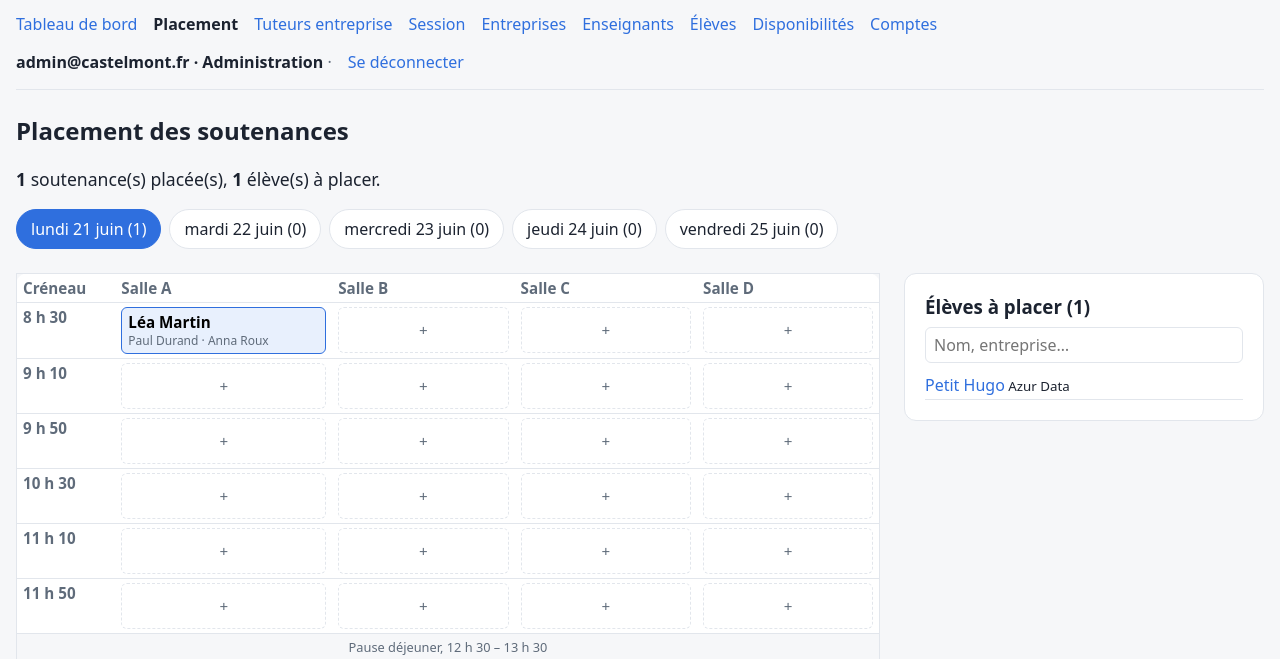
Test: PlacementPage, placing › shows the violations of a refusal (409) when the save itself is refused
This screenshot has width=1280, height=659.
Click the button named "Placer lun. 21 8 h 30, Salle B".
click(423, 330)  # box [338,306,509,352]
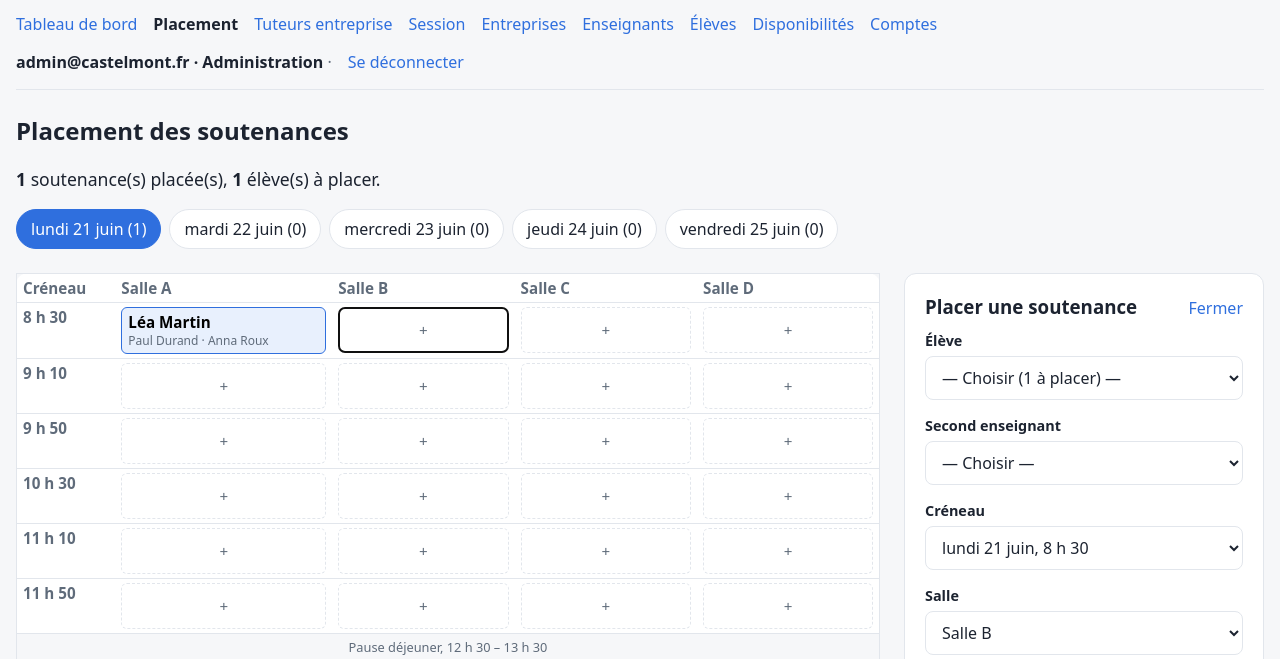
Select "Petit Hugo — Azur Data" in the dropdown labelled "Élève" at (1084, 378), box [925,356,1243,400]
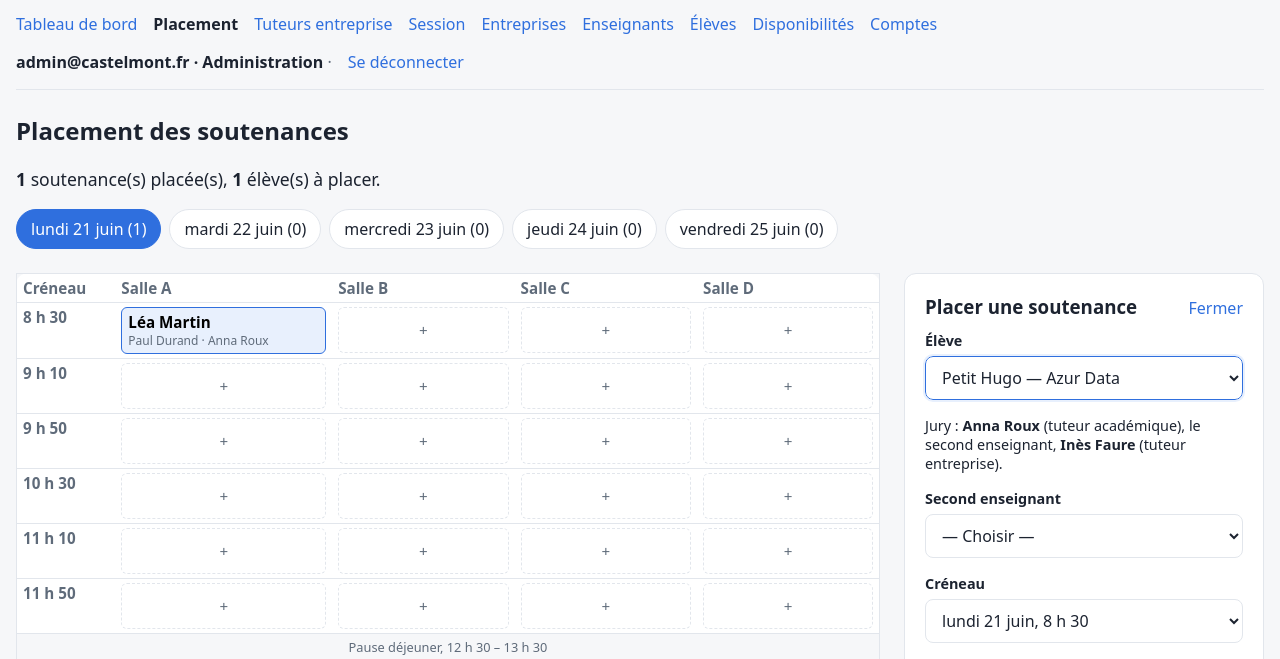
Select "Durand Paul" in the dropdown labelled "Second enseignant" at (1084, 536), box [925,514,1243,558]
(page scrolled)
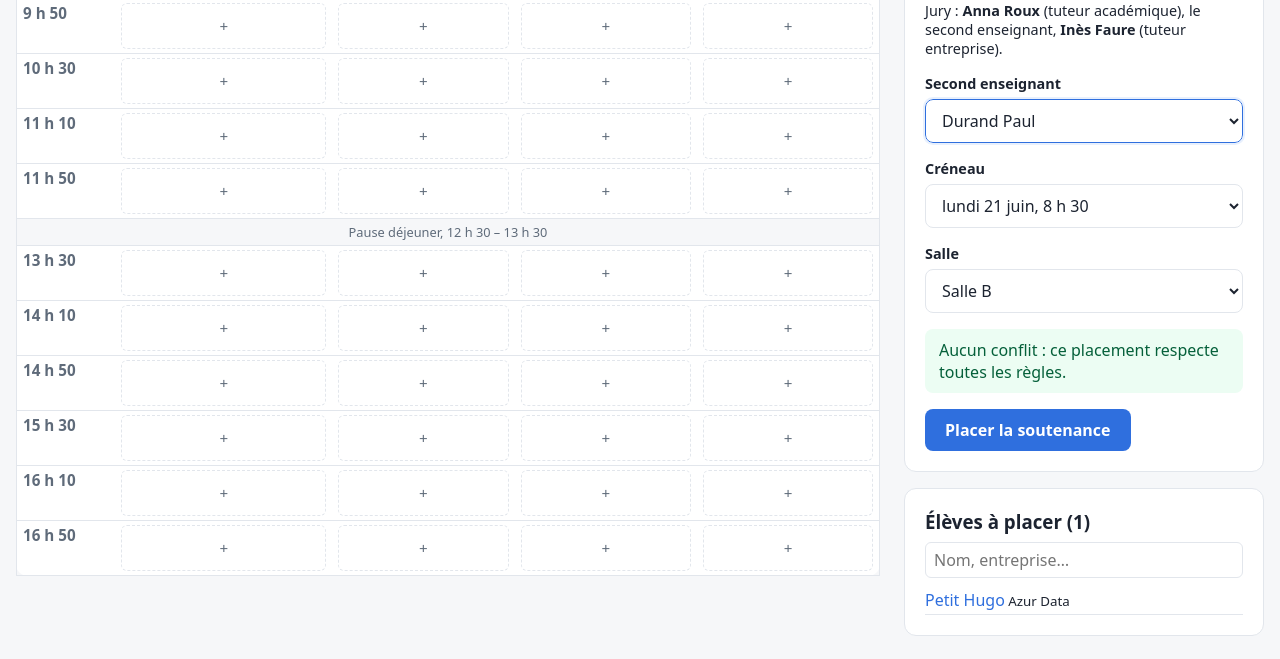
Check: the text "Aucun conflit : ce placement respecte toutes les règles." is shown, box [925,328,1243,392]
Click the button "Placer la soutenance".
click(1028, 430)  # box [925,408,1130,450]
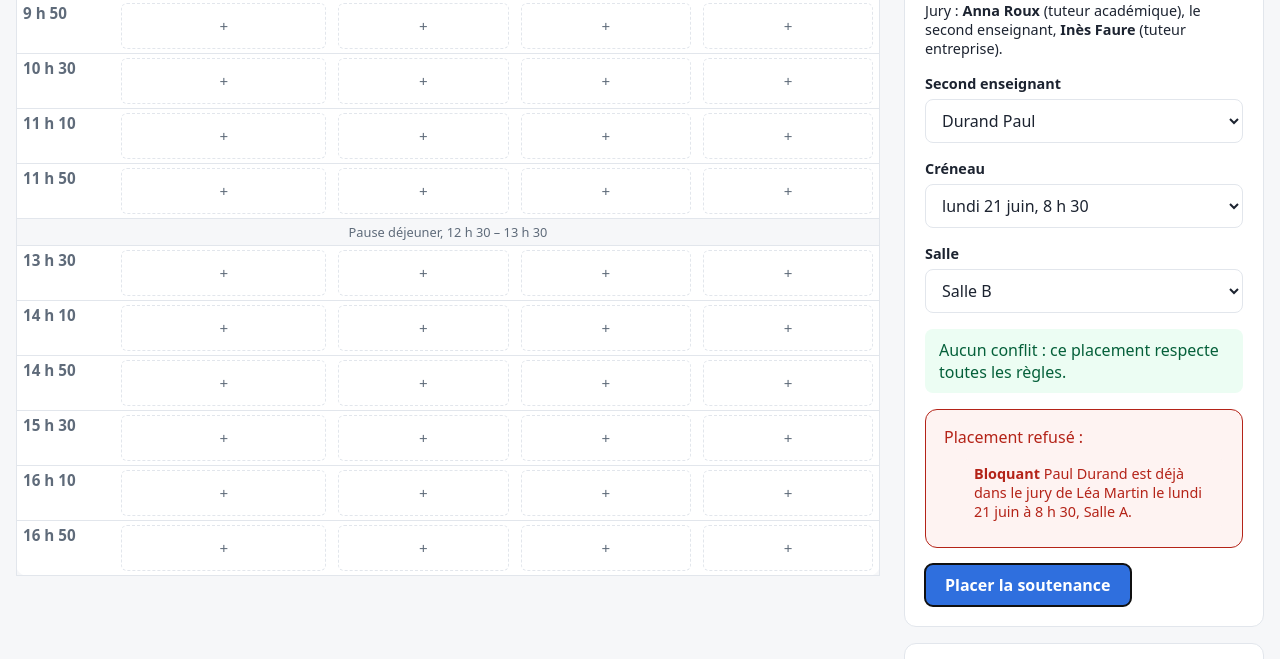
Check: the message shows "Placement refusé", box [944,426,1083,448]
Check: the message shows "Paul Durand est déjà dans le jury de Léa Martin le lundi 21 juin à 8 h 30, Salle A.", box [974,464,1202,520]
